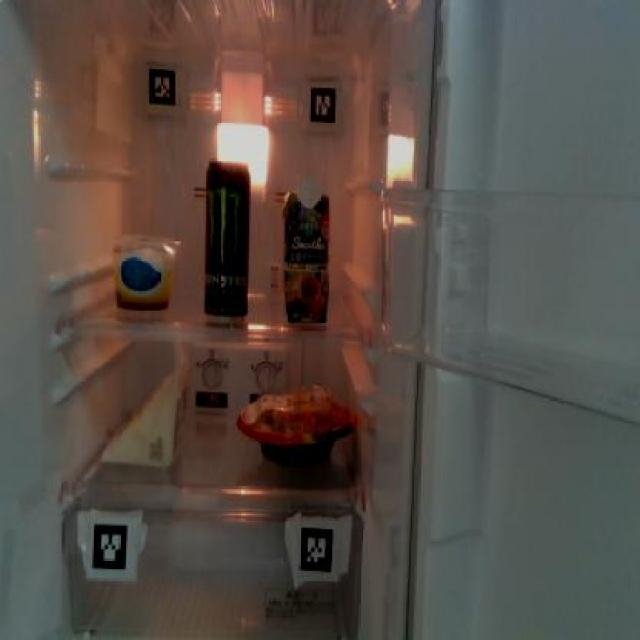bento: (234, 393, 354, 464)
energy_drink: (200, 157, 249, 318)
pudding: (111, 233, 177, 313)
sandwich: (100, 361, 189, 474)
smoothie: (282, 173, 330, 325)
